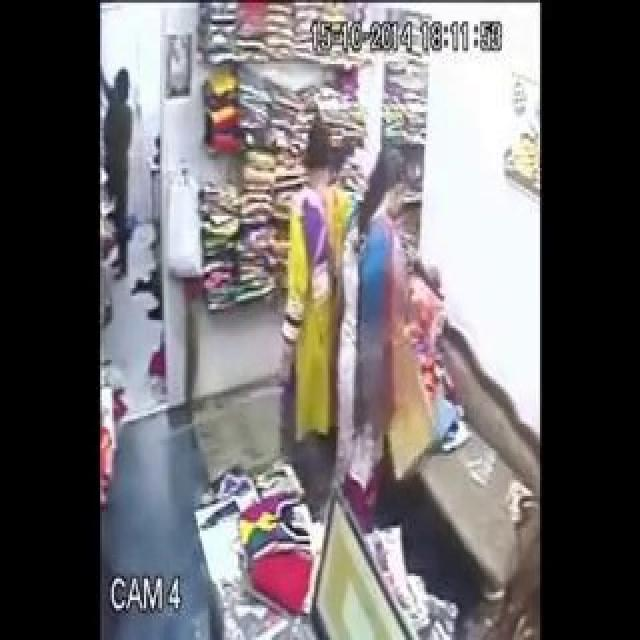Shoplifting: (341, 128, 437, 482)
